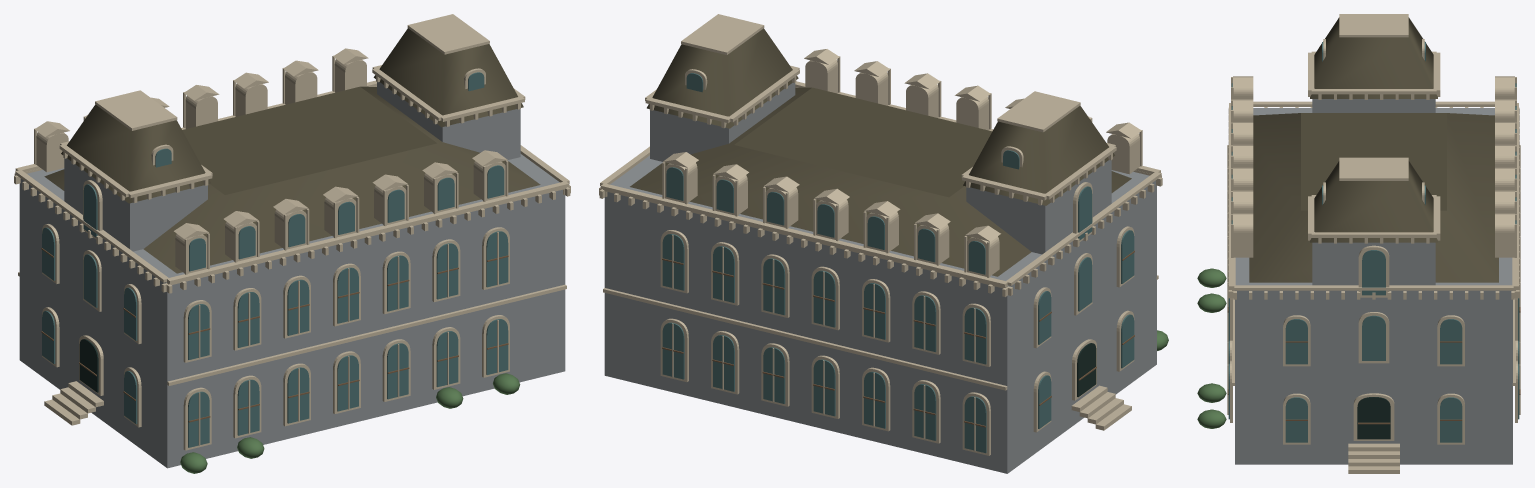
Rendered from university-hall-exterior-2026-11-04.glb.
The picture shows the model from 3 angles, left to right: view 1: azimuth 30°, elevation 25°; view 2: azimuth 150°, elevation 25°; view 3: azimuth 270°, elevation 25°; orthographic projection. The views are drawn at different scales.
Visible parts, largest first — view 1: university-part-0, university-part-1; view 2: university-part-0; view 3: university-part-0, university-part-1.
Part boxes in pixels (<box>): university-part-0: <box>14,14,570,468</box>; university-part-1: <box>180,373,520,473</box>; university-part-0: <box>599,14,1162,473</box>; university-part-0: <box>1227,14,1520,473</box>; university-part-1: <box>1197,268,1226,428</box>.
Size of the model in its own units: 32.98 by 19.81 by 20.95.
